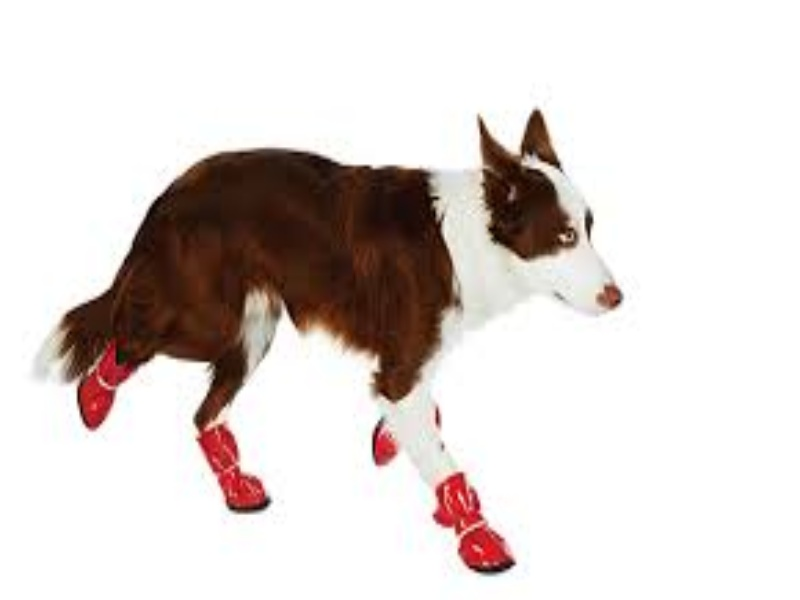dog: (23, 44, 719, 590)
